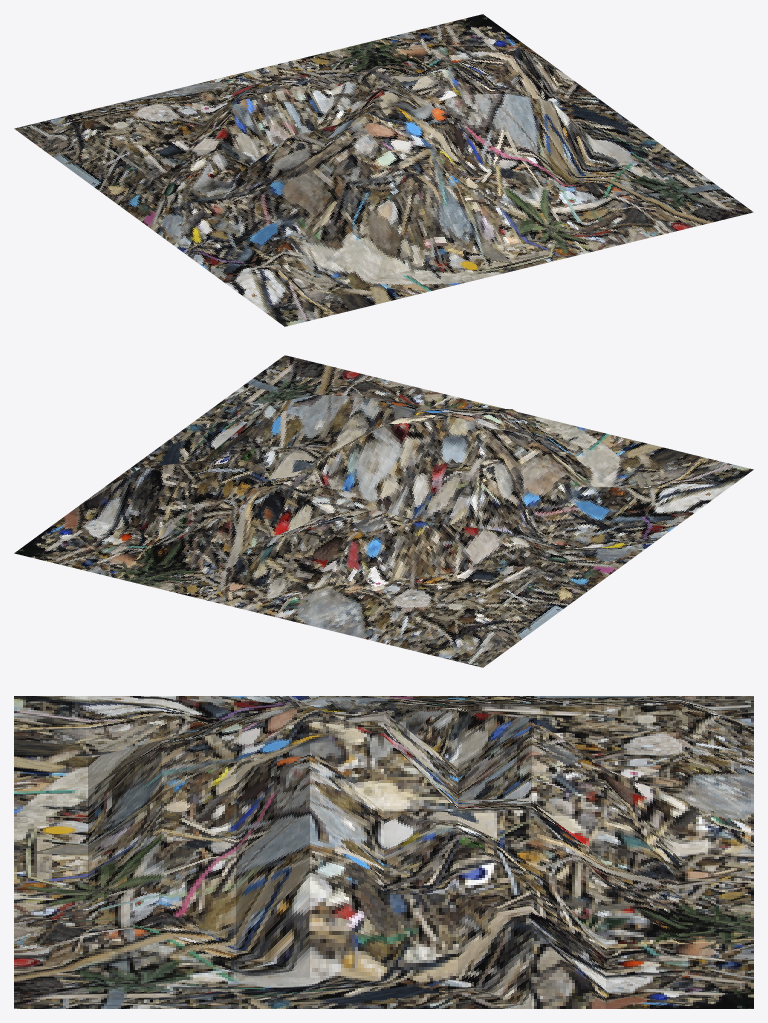
The model's file is rubbish.glb.
The picture shows the model from 3 angles, top to bottom: view 1: azimuth 30°, elevation 25°; view 2: azimuth 150°, elevation 25°; view 3: azimuth 270°, elevation 25°; orthographic projection. The views are drawn at different scales.
Visible parts, largest first — view 1: rubbish; view 2: rubbish; view 3: rubbish.
Boxes of the visible parts, x1,y1,x2,y2 form: rubbish: (14,14,753,326); rubbish: (14,355,753,667); rubbish: (14,696,753,1008).
Size of the model in its own units: 7.5 by 1.29 by 7.5.
1 material, 1 textured.
